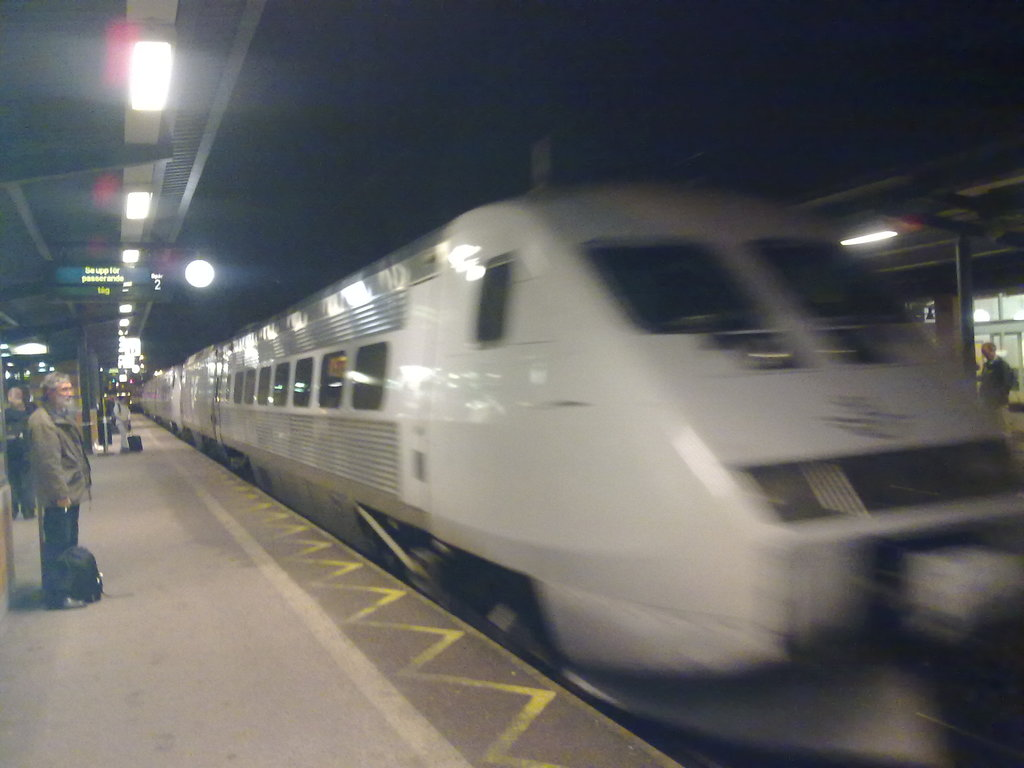Person: (19, 365, 94, 612)
